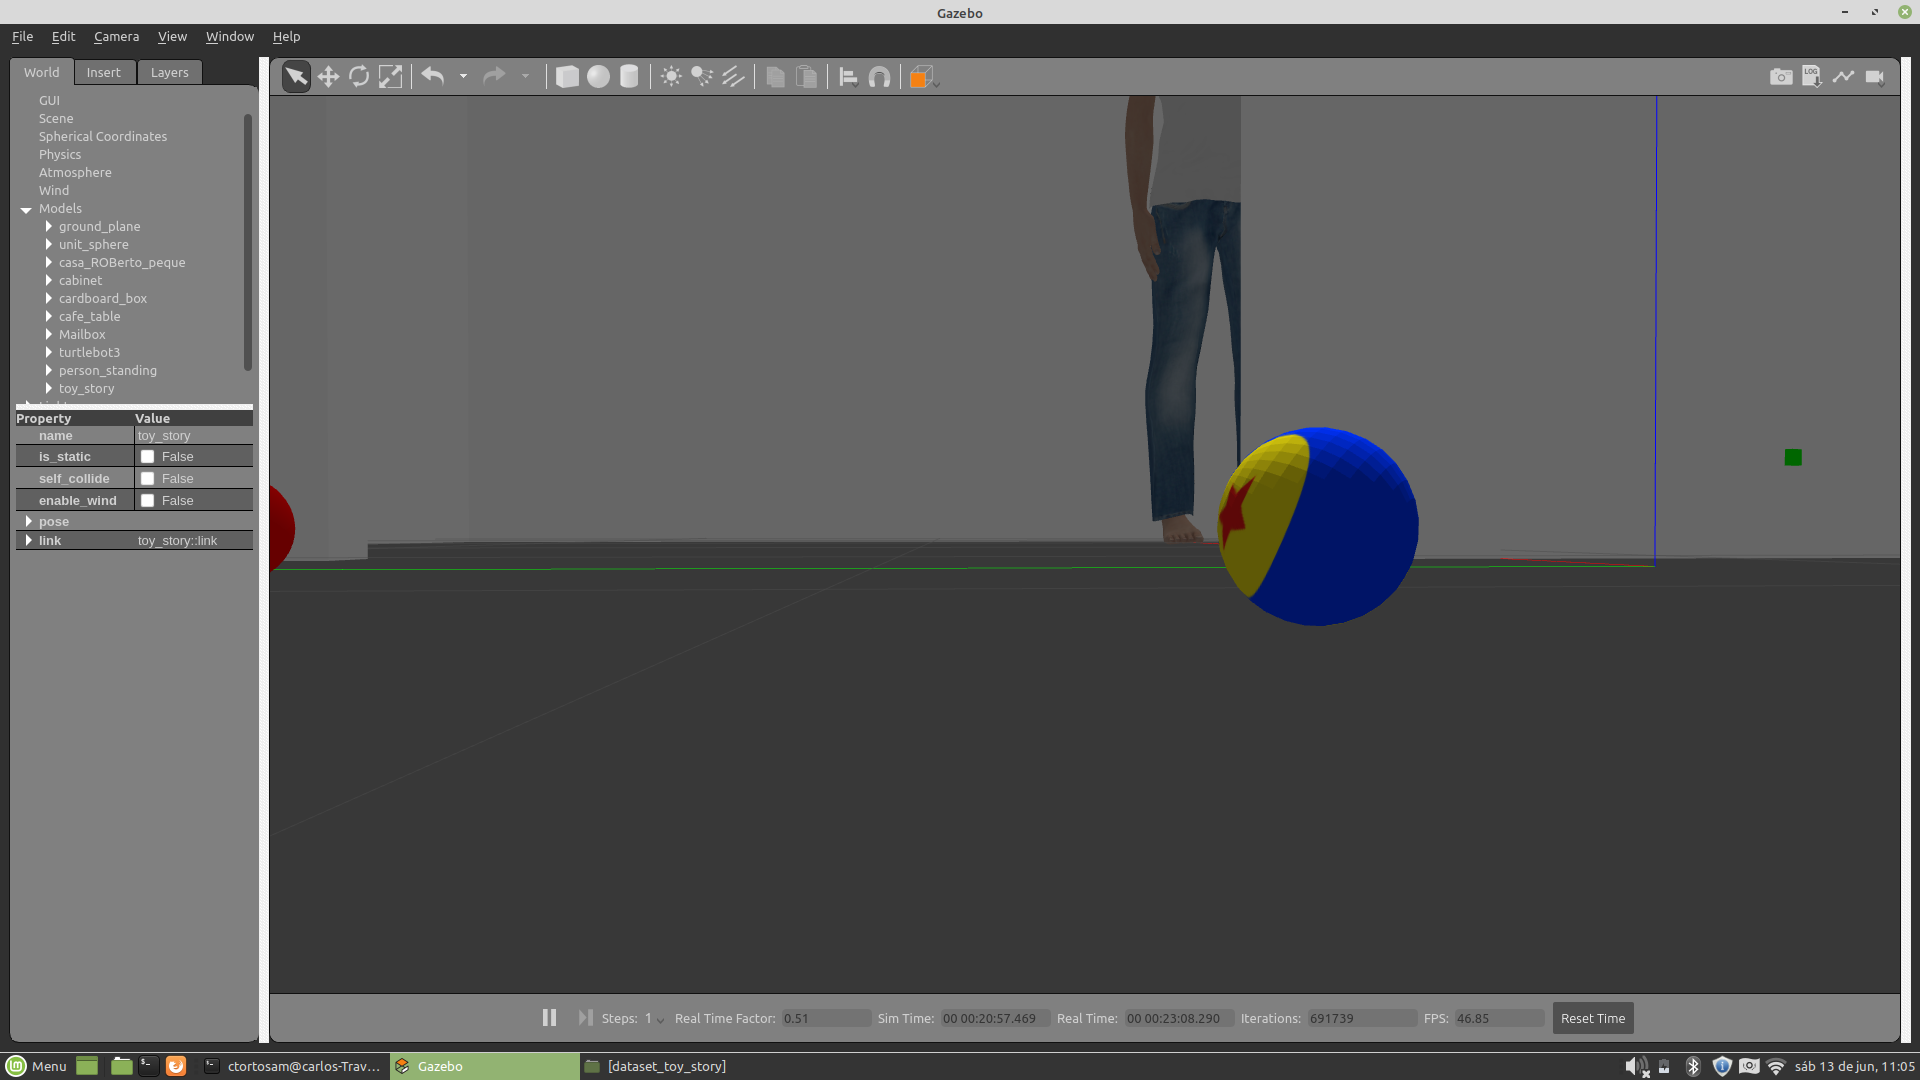toy story ball: (1215, 425, 1422, 628)
